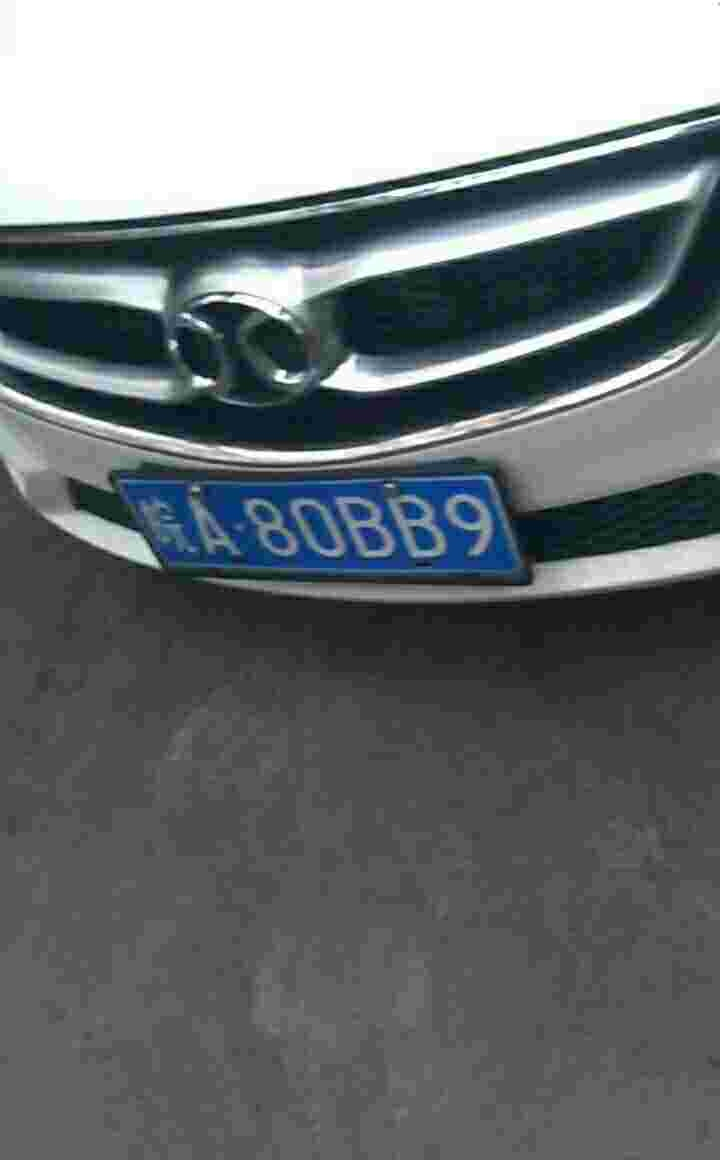license_plate: (123, 475, 533, 586)
